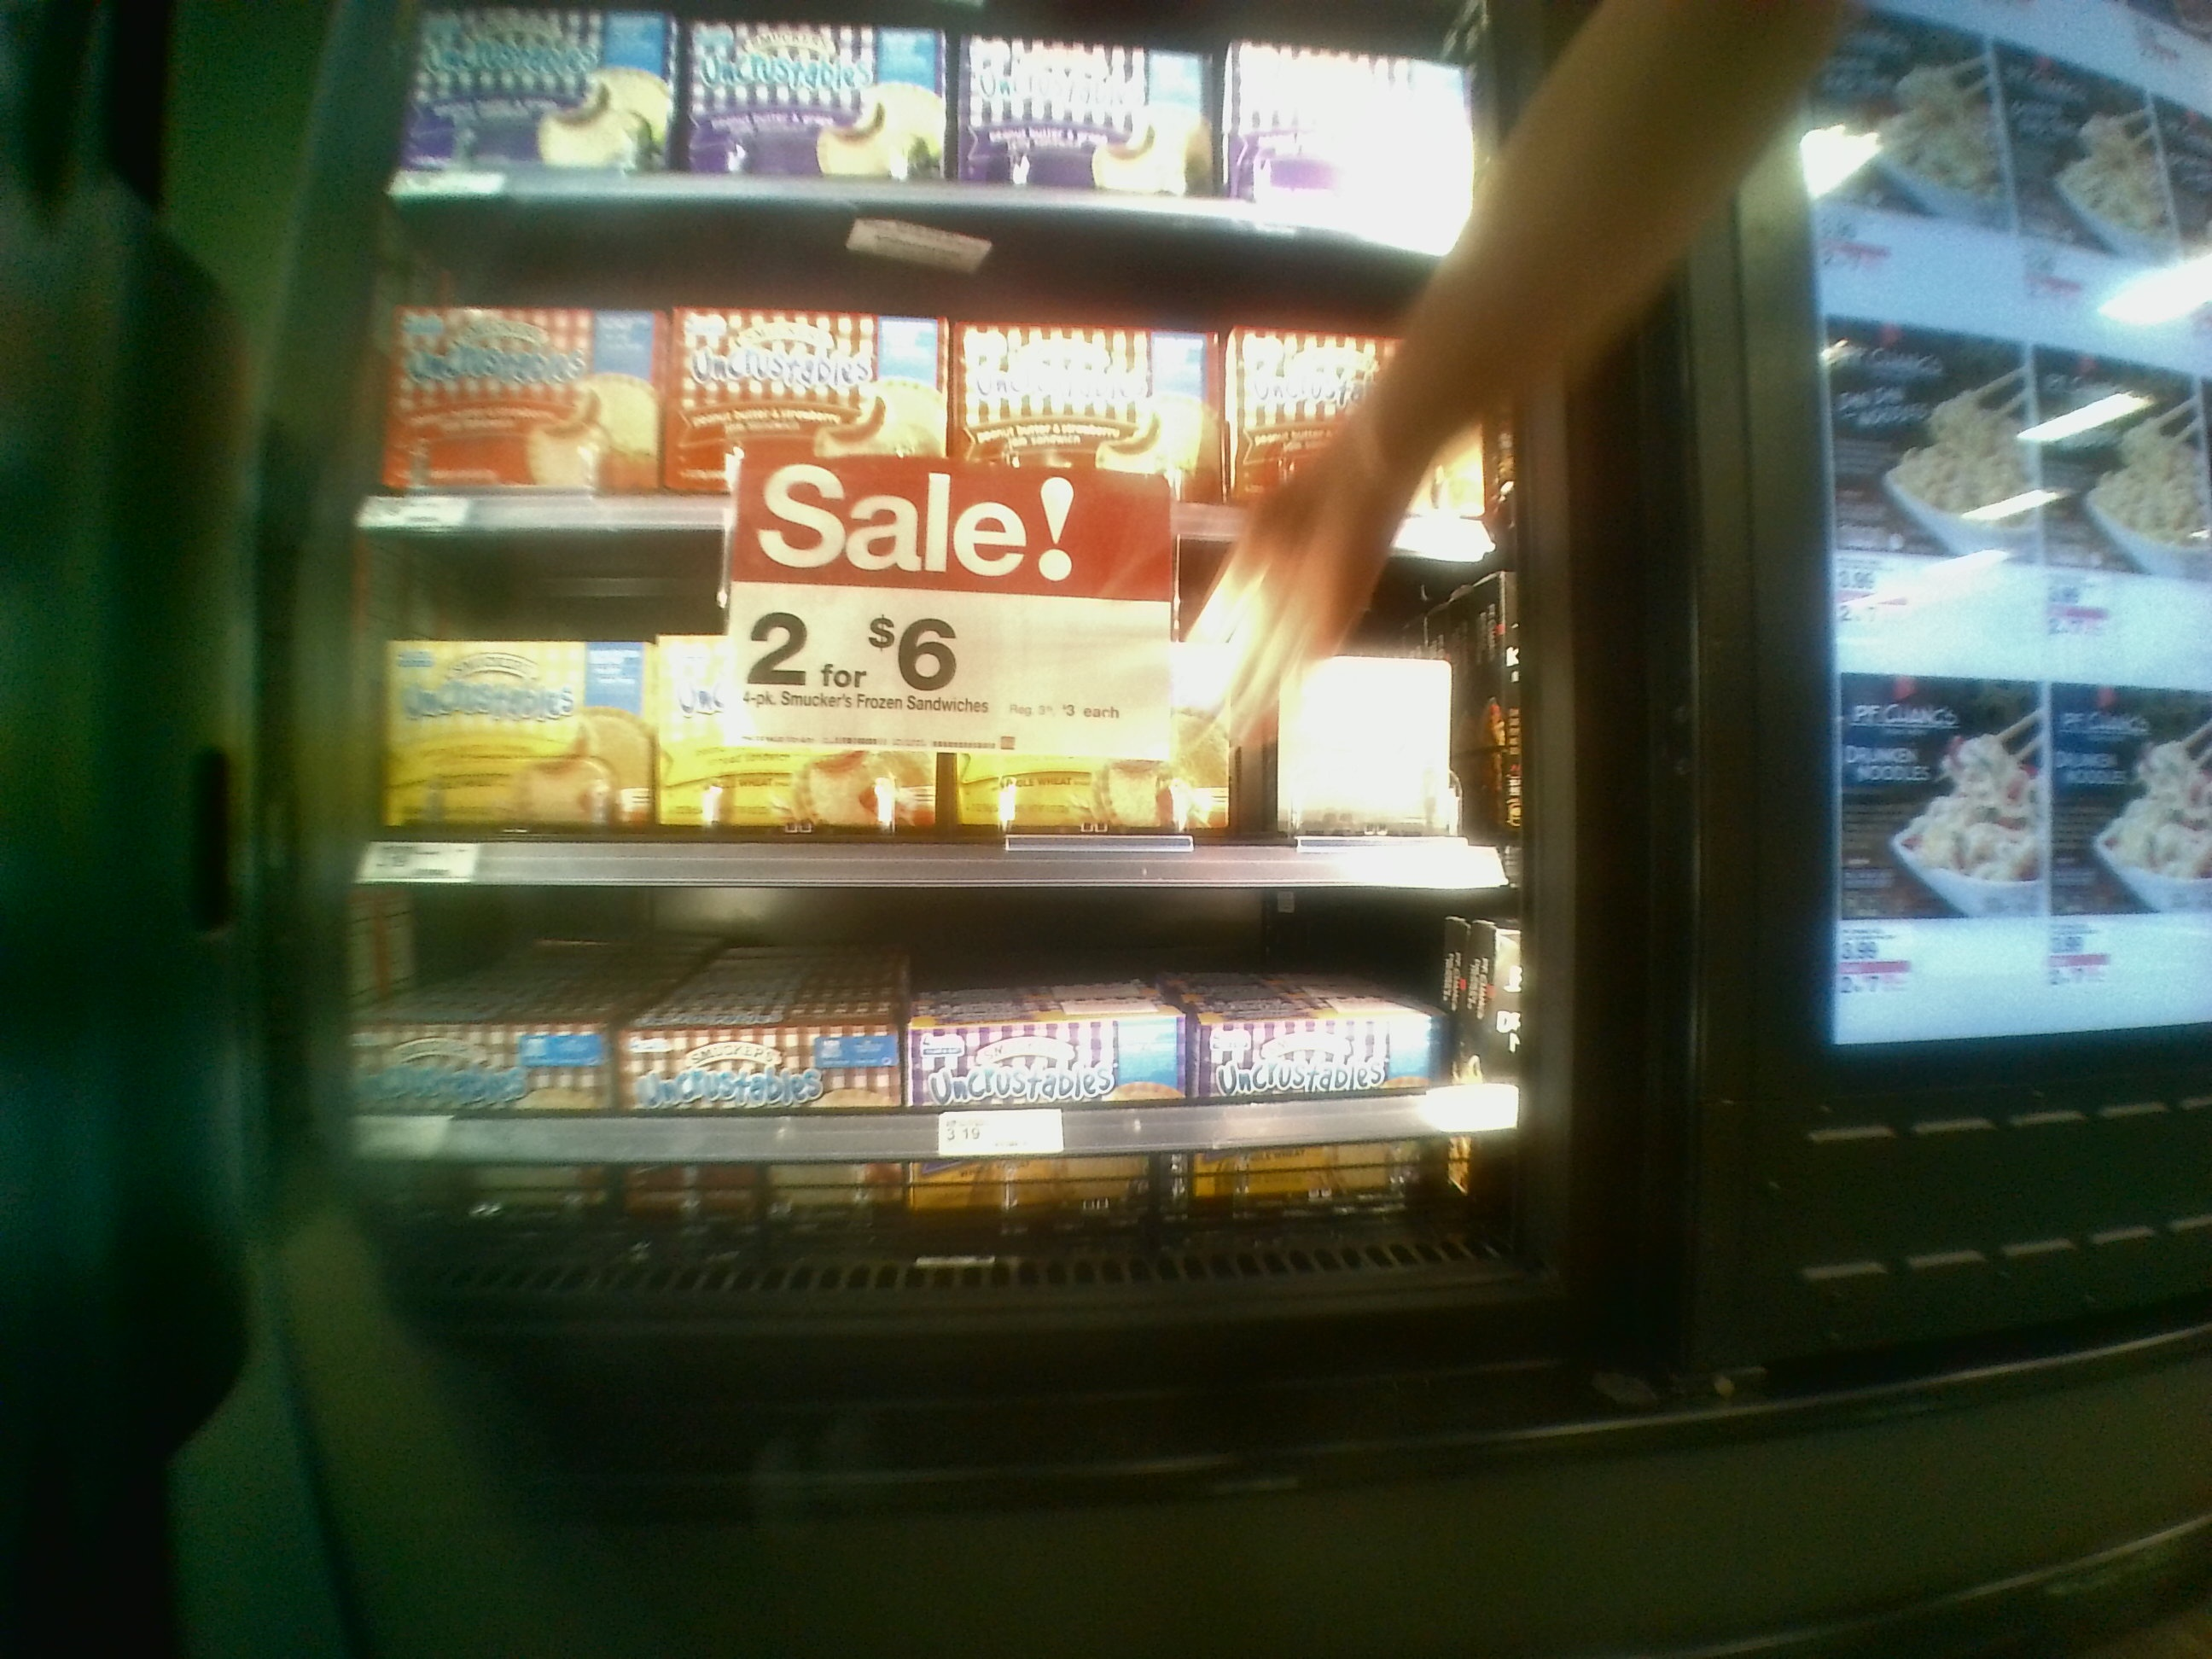shelf: (340, 864, 1510, 1270)
